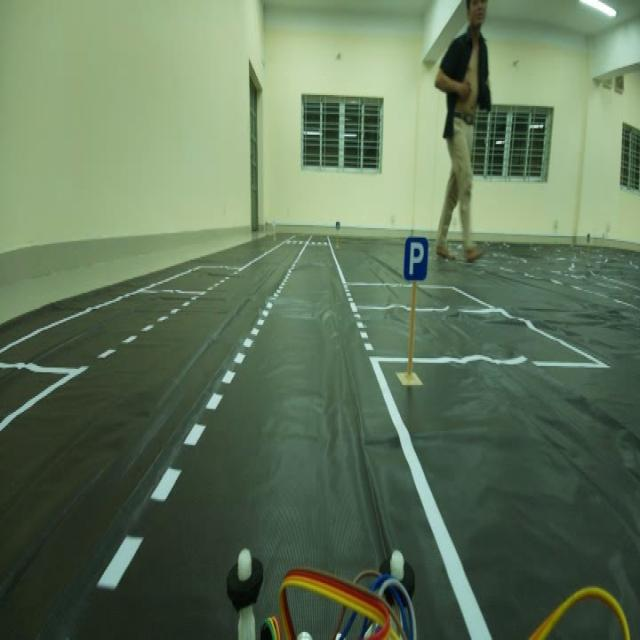parking: (397, 230, 431, 288)
